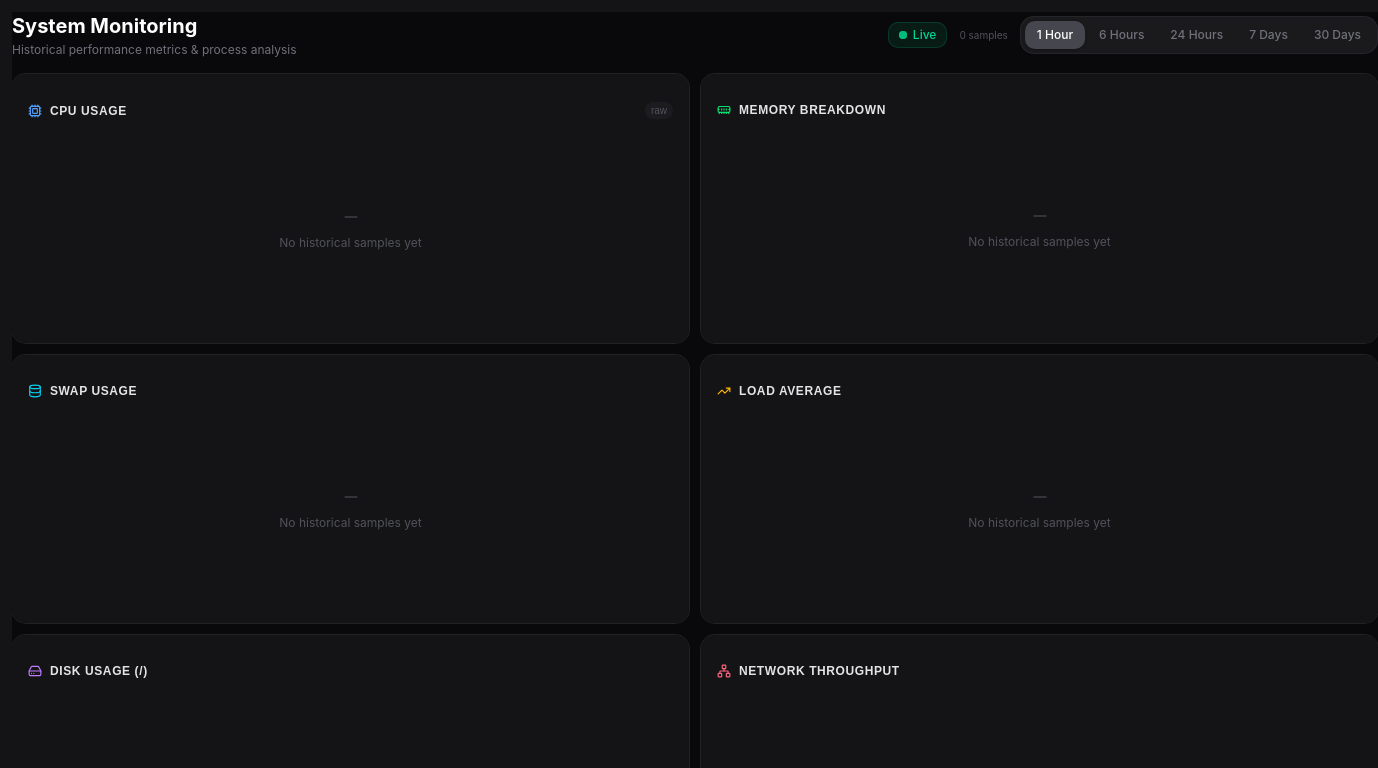
it: Monitoring historical metrics failure state › turns the pause control into a real polling boundary
The width and height of the screenshot is (1378, 768).
Click the button "Live" at [918, 35], box [888, 22, 947, 48]
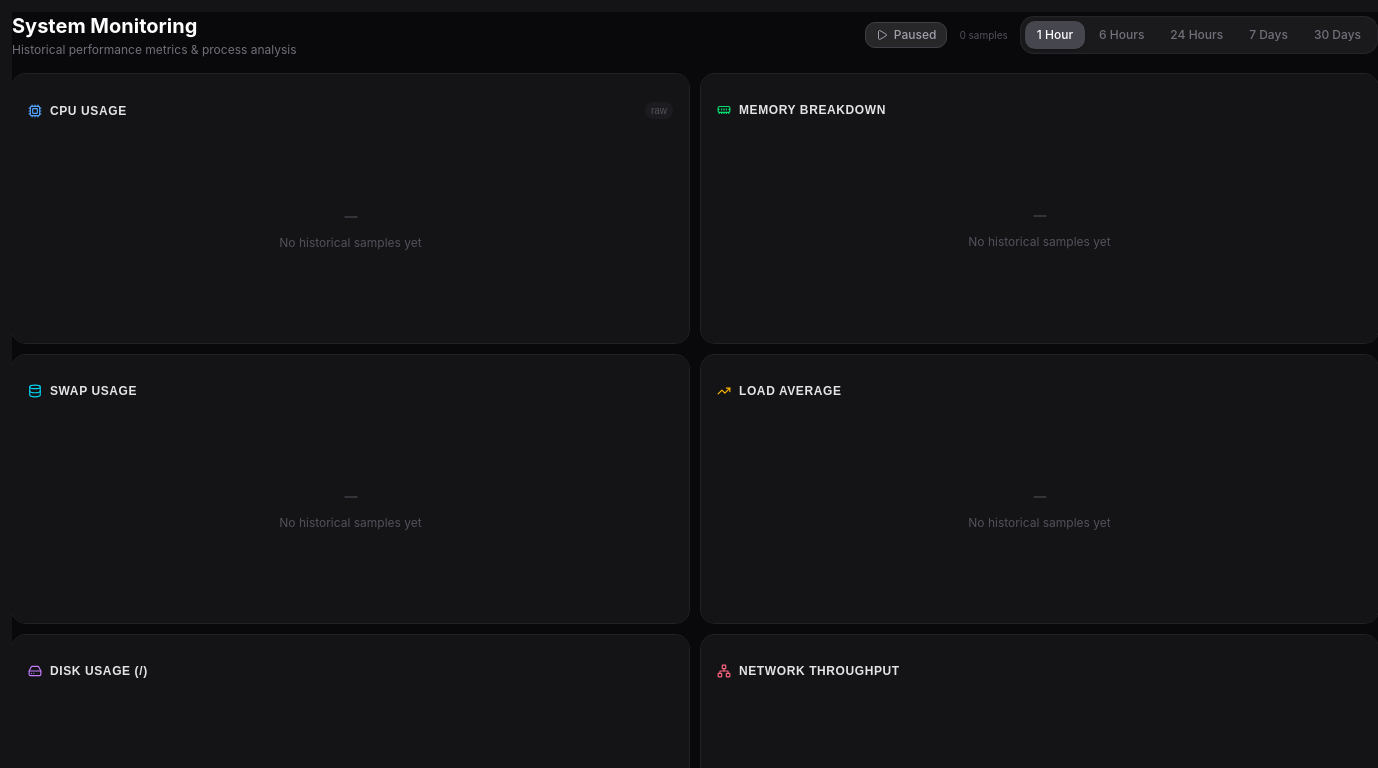
Check: the button "Paused" is shown, box [865, 22, 947, 48]
